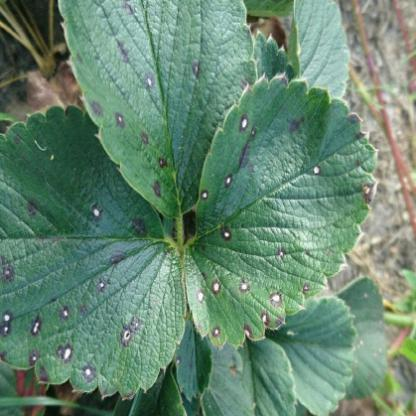Strawberry_Leaf_Spot: (0, 104, 190, 401), (183, 72, 380, 350), (57, 0, 259, 220), (174, 307, 213, 403)
